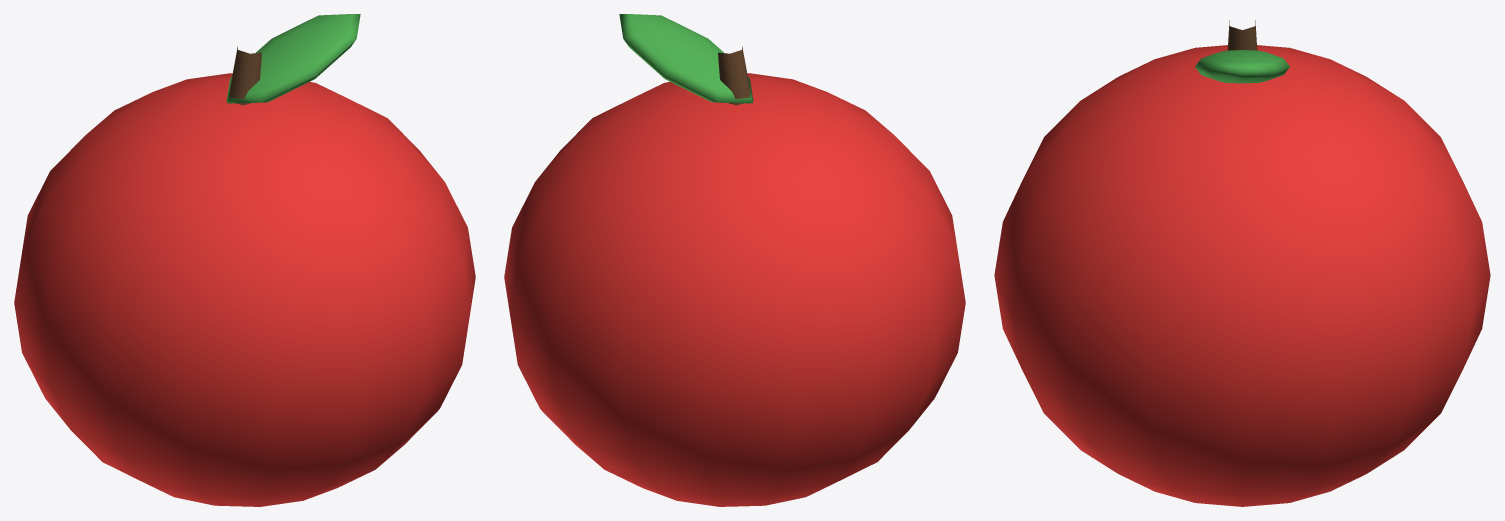
Rendered from apple.glb.
The picture shows the model from 3 angles, left to right: view 1: azimuth 30°, elevation 25°; view 2: azimuth 150°, elevation 25°; view 3: azimuth 270°, elevation 25°; orthographic projection. The views are drawn at different scales.
Visible parts, largest first — view 1: match/apple; view 2: match/apple; view 3: match/apple.
Part boxes in pixels (bbox=[...]): match/apple: bbox=[14, 14, 475, 506]; match/apple: bbox=[504, 14, 965, 506]; match/apple: bbox=[994, 20, 1490, 506].
Size of the model in its own units: 0.9489 by 1 by 0.9489.
